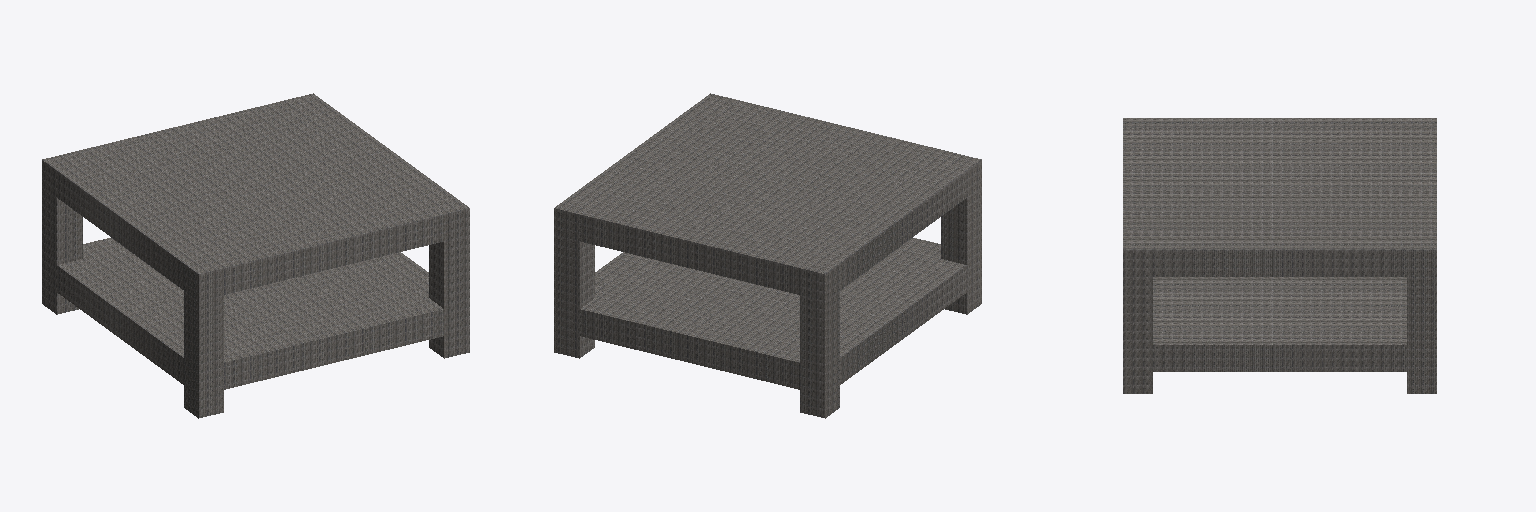
3 views of the same model, side by side, from view 1: azimuth 30°, elevation 25°; view 2: azimuth 150°, elevation 25°; view 3: azimuth 270°, elevation 25° (orthographic).
Visible parts, largest first — view 1: Mesh1 WE___Parsons_Coffee_Table___Chocolate1 WE___Parsons_Coffee; view 2: Mesh1 WE___Parsons_Coffee_Table___Chocolate1 WE___Parsons_Coffee; view 3: Mesh1 WE___Parsons_Coffee_Table___Chocolate1 WE___Parsons_Coffee.
Boxes of the visible parts, <box> form: Mesh1 WE___Parsons_Coffee_Table___Chocolate1 WE___Parsons_Coffee: <box>42,93,469,418</box>; Mesh1 WE___Parsons_Coffee_Table___Chocolate1 WE___Parsons_Coffee: <box>554,93,981,418</box>; Mesh1 WE___Parsons_Coffee_Table___Chocolate1 WE___Parsons_Coffee: <box>1123,118,1436,393</box>.
Bounding box in the file's own units: 0.8001 × 0.4064 × 0.8001.
Materials: 2 (1 with a texture image).